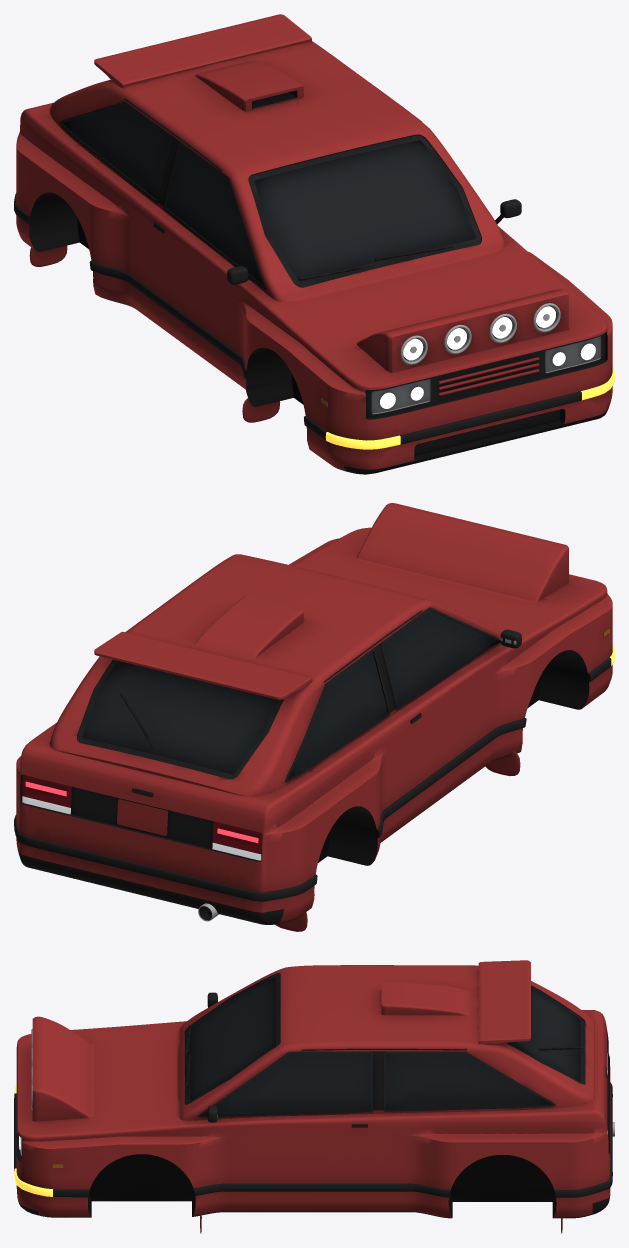
The model's file is sidewinder.glb.
The picture shows the model from 3 angles, top to bottom: view 1: azimuth 30°, elevation 25°; view 2: azimuth 150°, elevation 25°; view 3: azimuth 270°, elevation 25°; orthographic projection. The views are drawn at different scales.
Visible parts, largest first — view 1: paint, window, trim, head, lens, grille, chrome, amber; view 2: paint, window, trim, tail, reverse; view 3: paint, window, trim.
Boxes of the visible parts, left/top/right/bottom form: paint: left=16, top=14, right=612, bottom=470; window: left=62, top=104, right=481, bottom=284; trim: left=14, top=90, right=609, bottom=474; head: left=371, top=306, right=600, bottom=413; lens: left=380, top=306, right=595, bottom=408; grille: left=414, top=409, right=560, bottom=455; chrome: left=372, top=303, right=601, bottom=414; amber: left=325, top=366, right=614, bottom=449; paint: left=16, top=503, right=612, bottom=931; window: left=77, top=610, right=496, bottom=778; trim: left=14, top=607, right=611, bottom=924; tail: left=22, top=775, right=262, bottom=854; reverse: left=22, top=796, right=261, bottom=860; paint: left=16, top=960, right=610, bottom=1233; window: left=185, top=977, right=580, bottom=1115; trim: left=14, top=973, right=612, bottom=1218.
Size of what is drawn, in the model's own units: 1.93 by 1.4 by 4.06.
